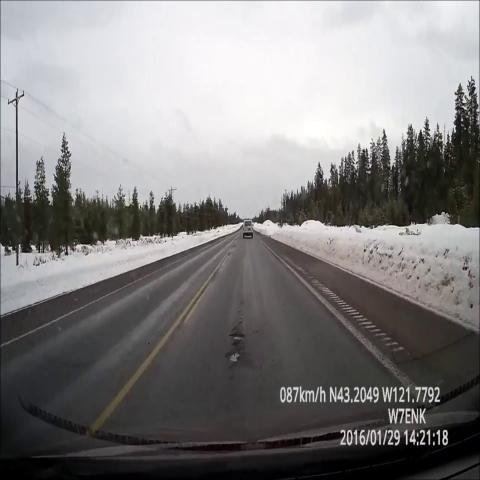pothole: (223, 324, 250, 349), (223, 346, 248, 369)
